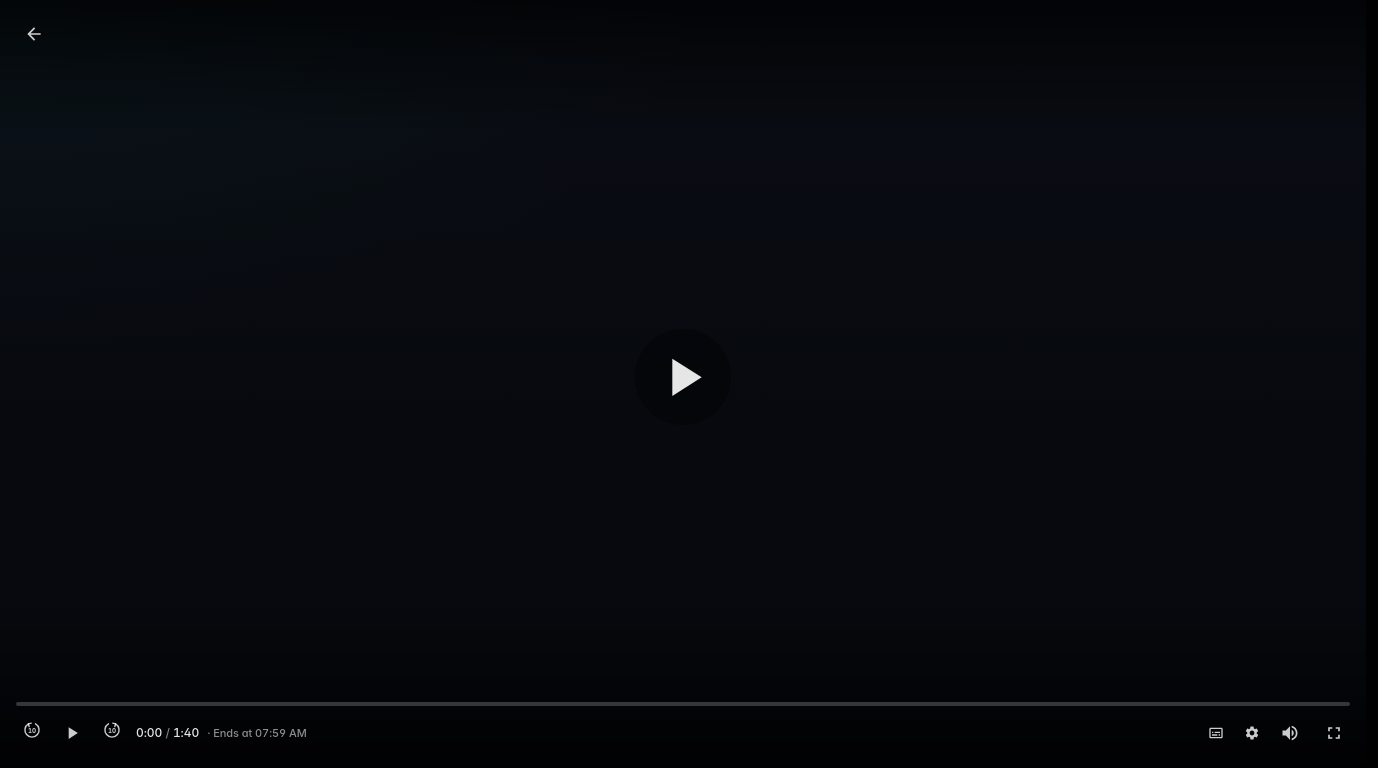
Scenario: PlayerControls — Ajustes (Settings) › shows the quality ladder inside the Ajustes popover when multi-level
Click the button named "Settings".
click(1252, 733)  # box [1238,719,1266,747]
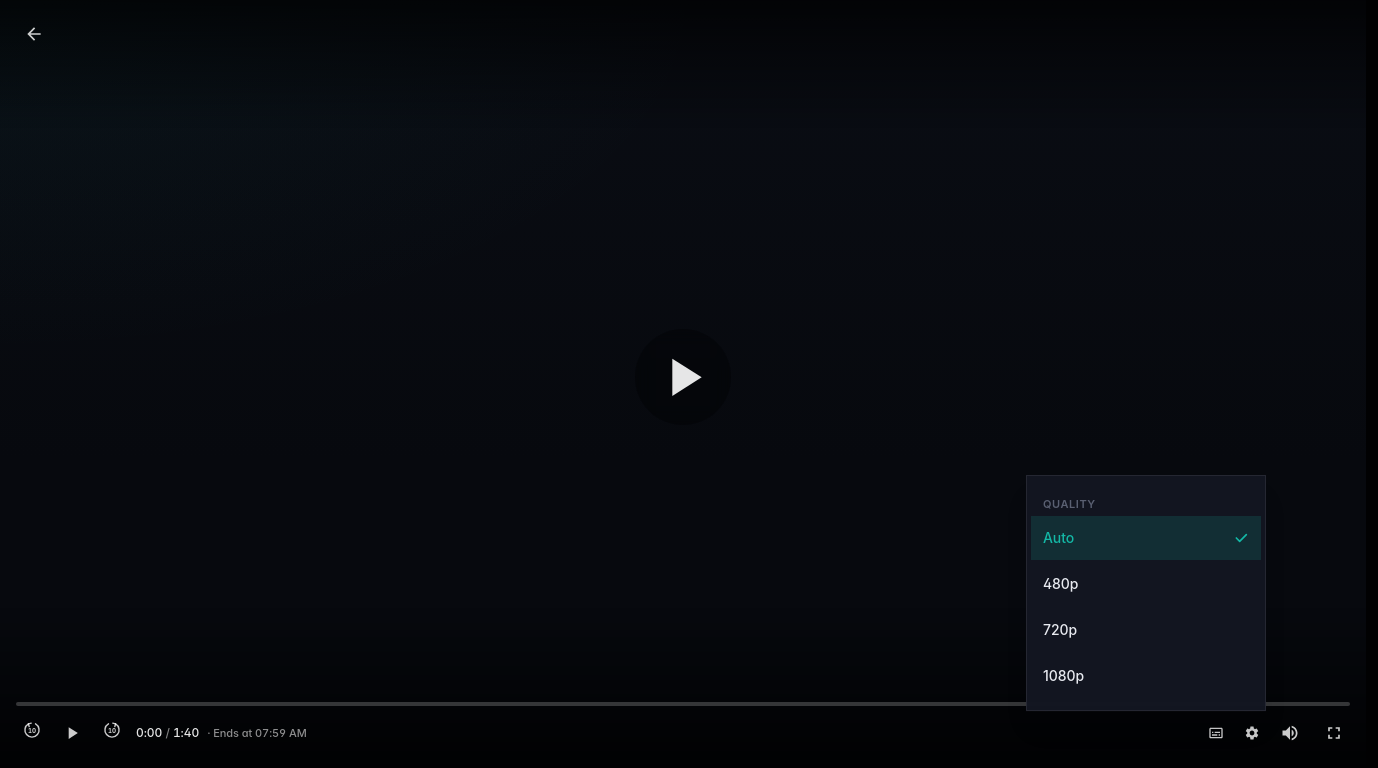
Expected: the text "480p" is shown, [1043,575,1078,592]
Expected: the text "720p" is shown, [1043,621,1077,638]
Expected: the text "1080p" is shown, [1043,667,1084,684]
